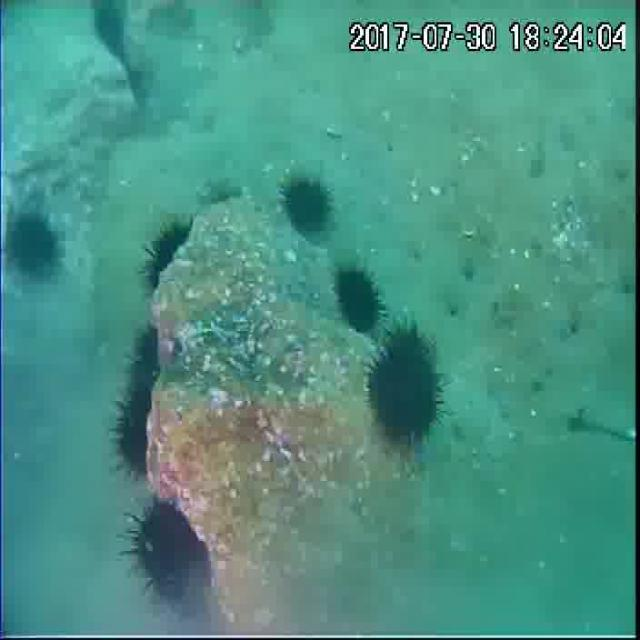echinus: (369, 322, 447, 448), (131, 497, 214, 613), (1, 209, 64, 284), (111, 388, 155, 484), (140, 218, 194, 296), (334, 266, 384, 340), (122, 324, 168, 402), (282, 173, 335, 239), (89, 0, 125, 53)
